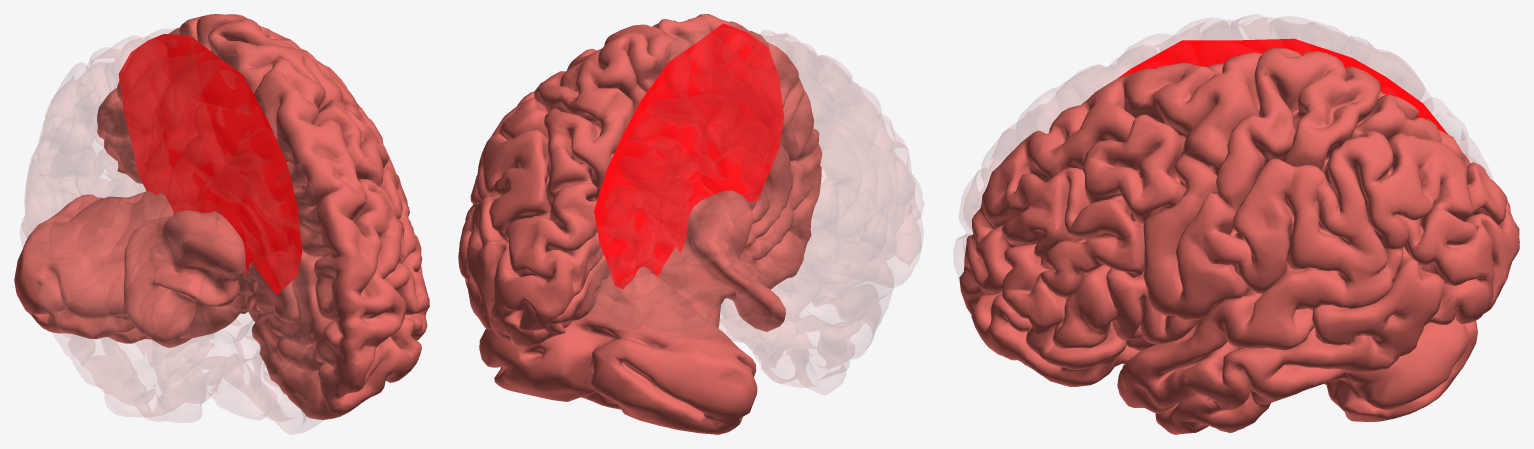
The model's file is crisital barin.fbx.
3 renders of one model, left to right at view 1: azimuth 30°, elevation 25°; view 2: azimuth 150°, elevation 25°; view 3: azimuth 270°, elevation 25°, orthographic. The views are drawn at different scales.
Visible parts, largest first — view 1: Brain.001, Brain.003, Brain.002, Plane; view 2: Brain.001, Brain.003, Brain.002, Plane; view 3: Brain.003, Brain.001, Brain.002, Plane.
Part boxes in pixels (x1,y1,x2,y2): Brain.001: [20, 27, 340, 434]; Brain.003: [97, 14, 429, 419]; Brain.002: [14, 190, 298, 347]; Plane: [118, 34, 302, 294]; Brain.001: [586, 23, 923, 394]; Brain.003: [458, 14, 821, 347]; Brain.002: [479, 185, 785, 434]; Plane: [594, 23, 784, 289]; Brain.003: [959, 48, 1519, 434]; Brain.001: [953, 14, 1493, 277]; Brain.002: [1324, 316, 1477, 421]; Plane: [1117, 38, 1447, 133].
Bounding box in the file's own units: 9.69 × 7.03 × 6.85.
